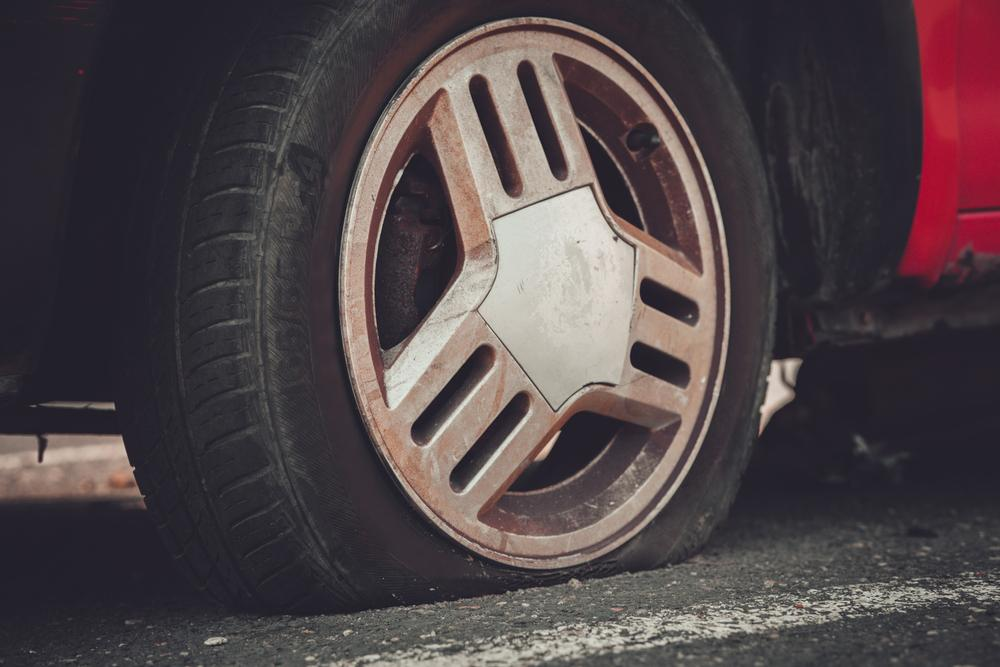tire flat: (116, 0, 773, 621)
